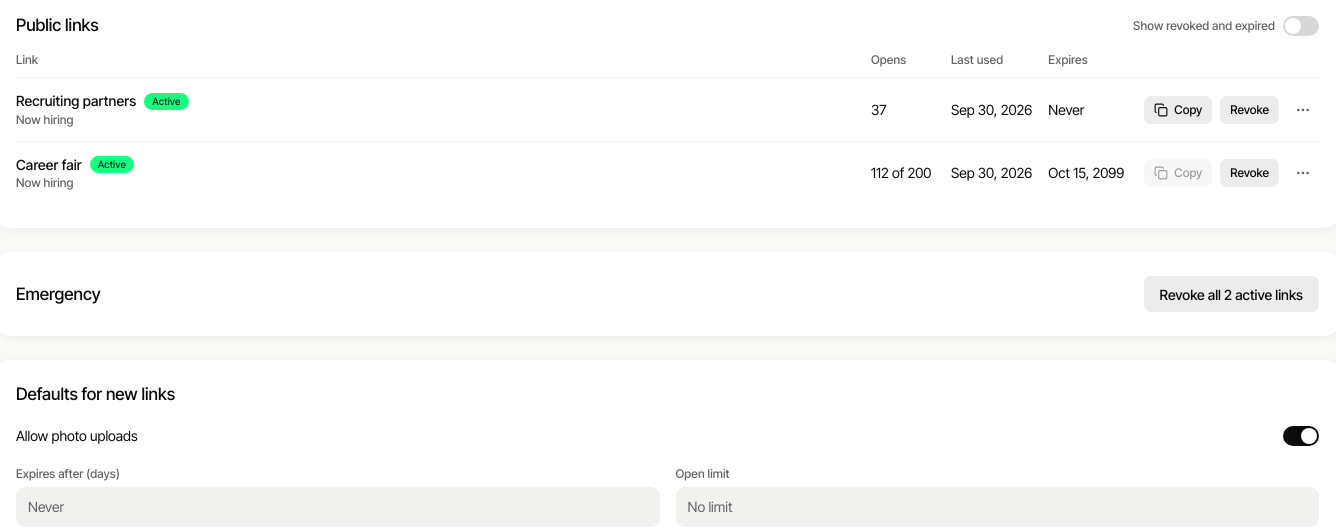
Test: SharingSection (PHASE-7 §9 D5, PHASE-8 §9 D1) › offers Manage and New address in the row menu
Click the button named "More actions for Recruiting partners": (1303, 110) [1287,94,1319,126]
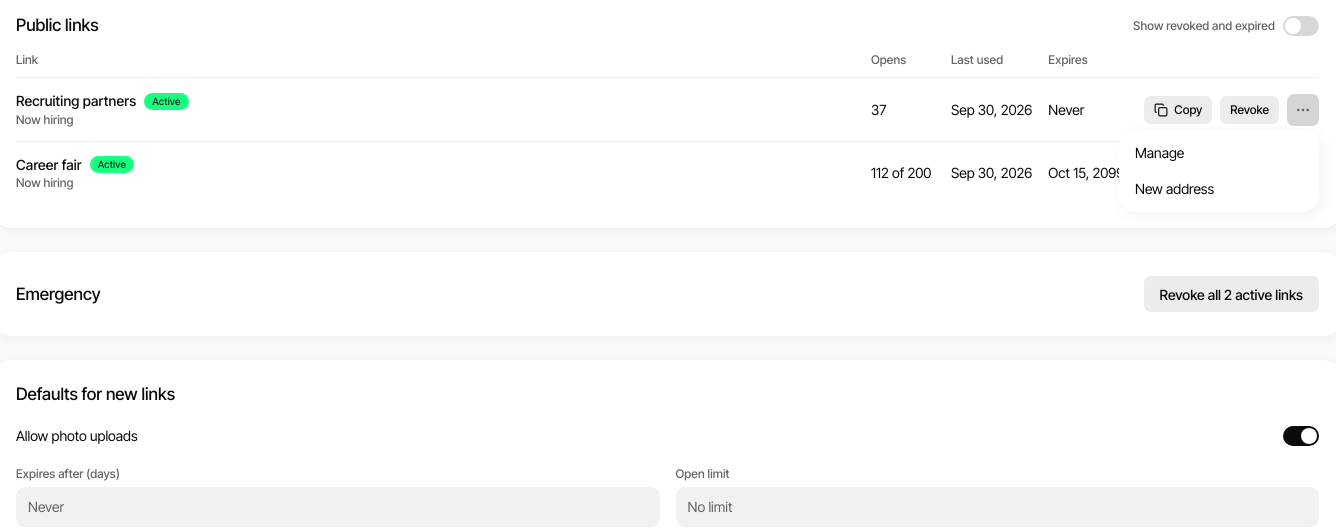
Check: the menu item "Manage" is shown, box [1135,144,1184,161]
Check: the menu item "New address" is shown, box [1135,180,1214,197]
